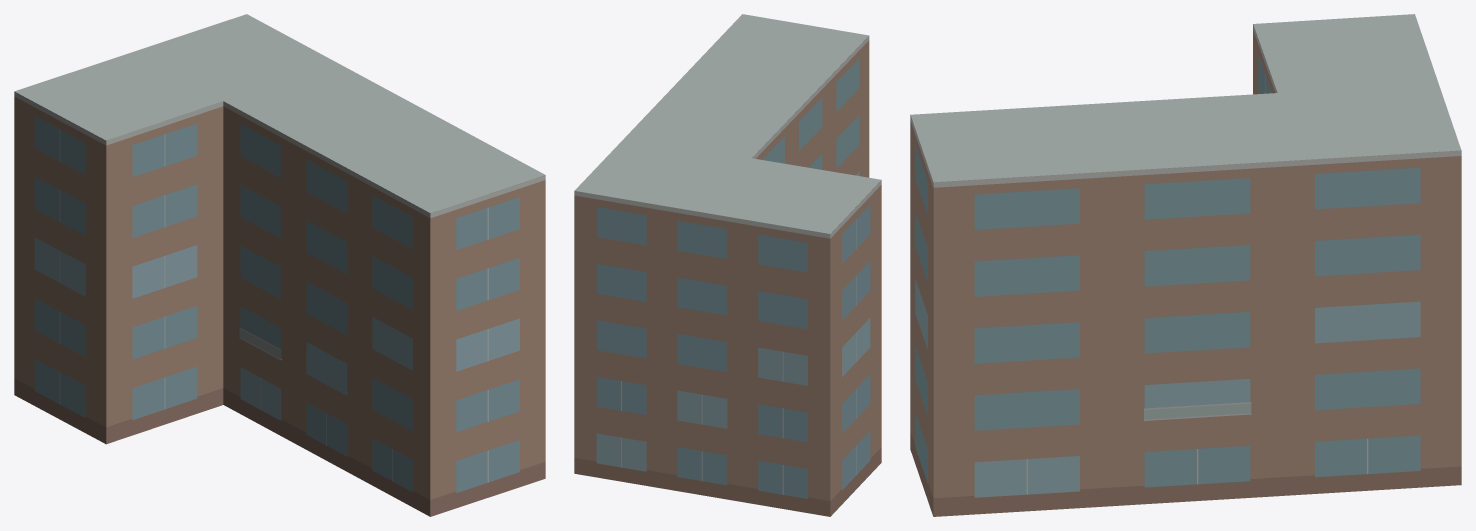
File: survey-upis-32704274.glb
3 renders of one model, left to right at view 1: azimuth 30°, elevation 25°; view 2: azimuth 150°, elevation 25°; view 3: azimuth 270°, elevation 25°, orthographic. The views are drawn at different scales.
Parts seen in each view (by area): view 1: survey-upis-32704274.tmp; view 2: survey-upis-32704274.tmp; view 3: survey-upis-32704274.tmp.
Boxes of the visible parts, box(x1,y1,x2,y2) form: survey-upis-32704274.tmp: box(14, 14, 545, 516); survey-upis-32704274.tmp: box(574, 14, 881, 516); survey-upis-32704274.tmp: box(910, 14, 1461, 516).
Size of the model in its own units: 15.91 by 14.75 by 22.03.
